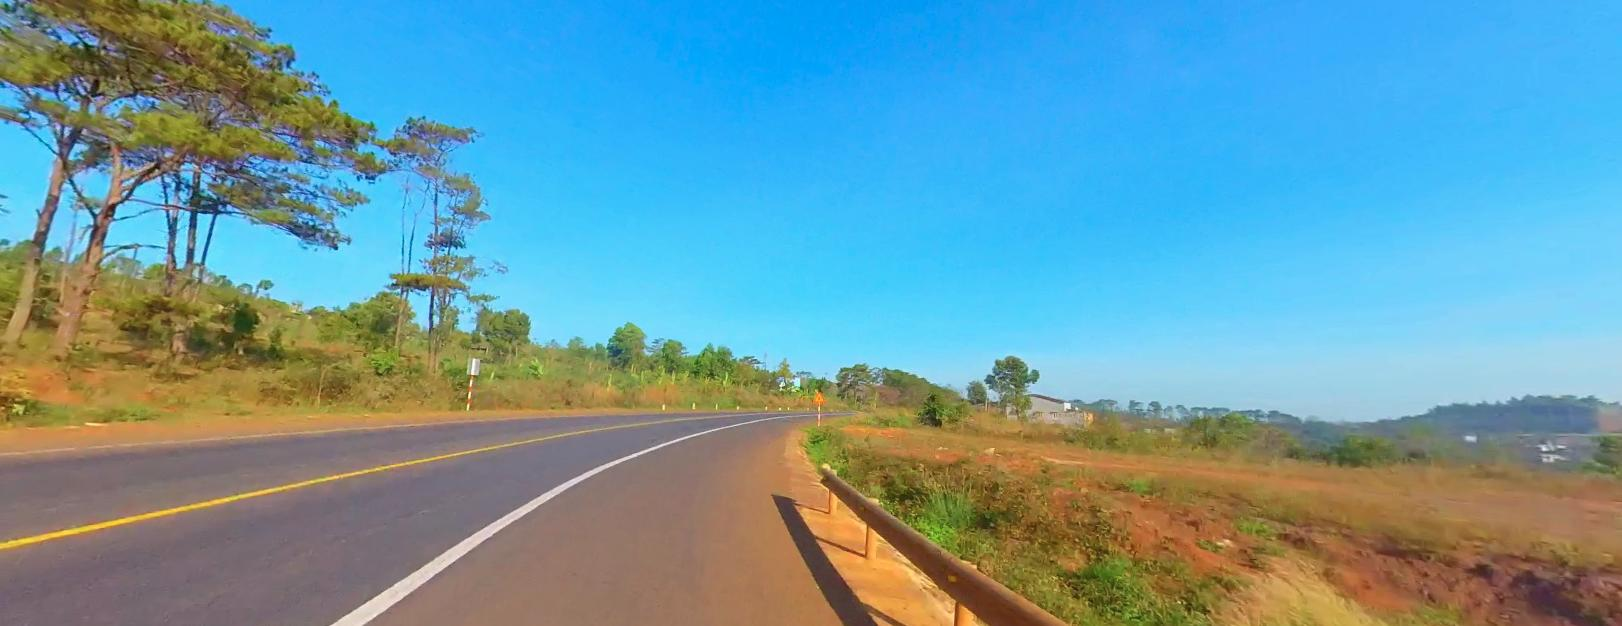Nguy hiem: (811, 389, 827, 401)
